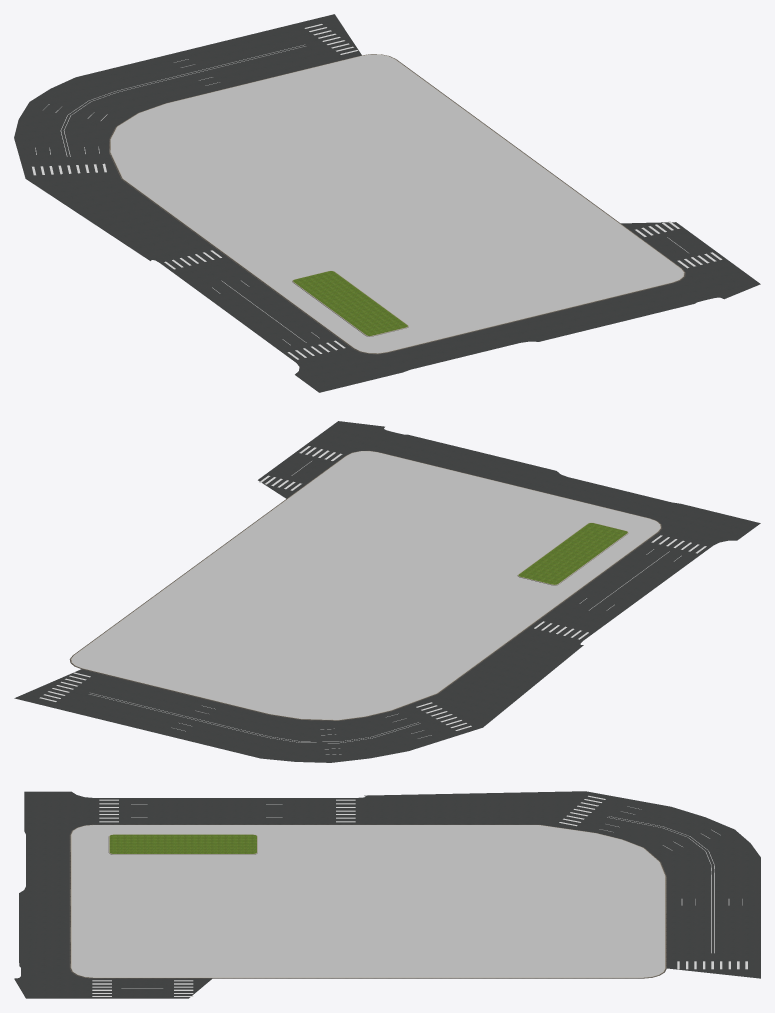
Rendered from Terrain_Area_01.fbx.
3 renders of one model, top to bottom at view 1: azimuth 30°, elevation 25°; view 2: azimuth 150°, elevation 25°; view 3: azimuth 270°, elevation 25°, orthographic. The views are drawn at different scales.
Parts seen in each view (by area): view 1: Area_01, Road_09, Road_Alpha_05; view 2: Area_01, Road_09, Road_Alpha_05; view 3: Area_01, Road_09, Road_Alpha_05, Road_Alpha_10, Road_Alpha_13.
Part boxes in pixels (x1,y1,x2,y2): Area_01: (109, 54, 685, 354); Road_09: (14, 14, 760, 392); Road_Alpha_05: (32, 24, 358, 175); Area_01: (69, 450, 662, 720); Road_09: (14, 421, 760, 762); Road_Alpha_05: (39, 672, 471, 754); Area_01: (69, 824, 666, 978); Road_09: (14, 791, 760, 998); Road_Alpha_05: (559, 795, 747, 969); Road_Alpha_10: (99, 799, 355, 822); Road_Alpha_13: (92, 980, 193, 996).
Bounding box in the file's own units: 10280 × 17.21 × 15638.
